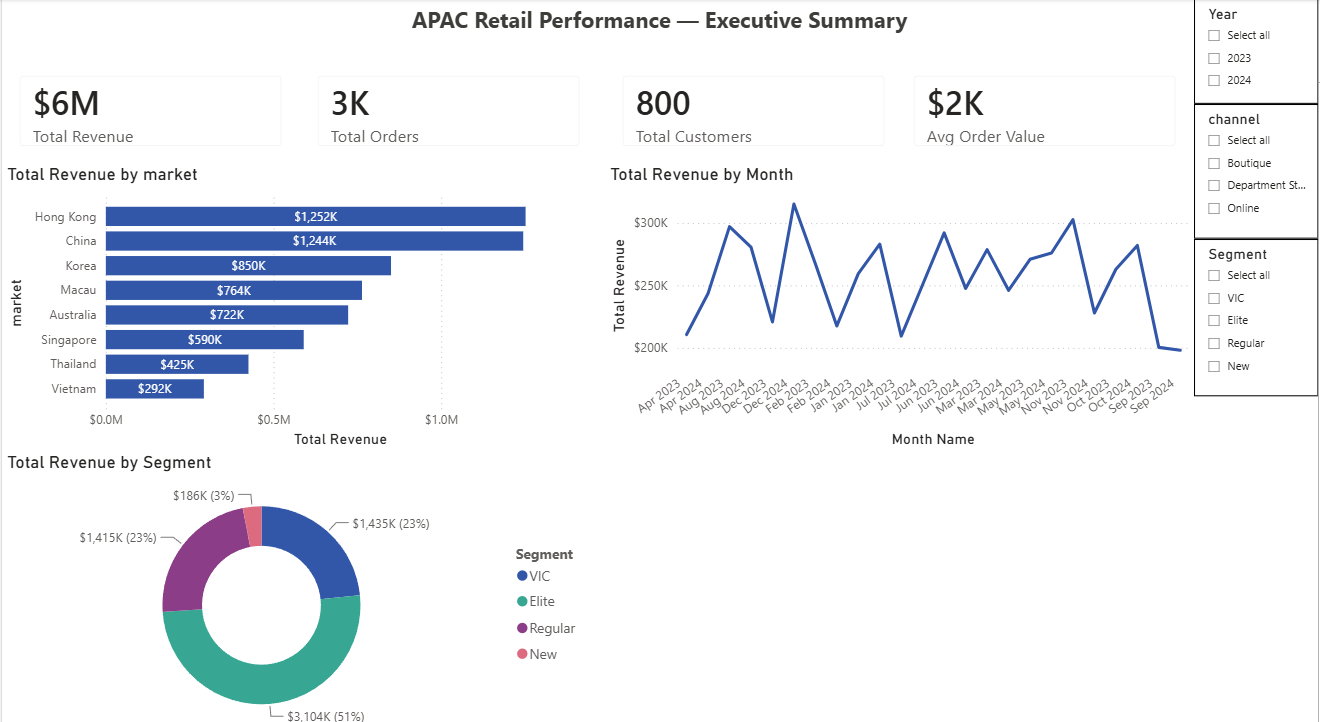

Layout of this report page (visuals, bound fields, positions):
{"tool":"powerbi","page":{"name":"Executive Summary","canvas":[1280,720],"ordinal":0},"visuals":[{"type":"barChart","fields":{"Category":["retail_transactions.market"],"Y":["retail_transactions.Total Revenue"]},"box":[0,160.5,579.7,280.1],"z":0},{"type":"cardVisual","fields":{"Data":["retail_transactions.Total Revenue"]},"box":[0,57.4,289.8,103.1],"z":1000},{"type":"cardVisual","fields":{"Data":["retail_transactions.Total Orders"]},"box":[289.8,57.4,289.8,103.1],"z":2000},{"type":"cardVisual","fields":{"Data":["retail_transactions.Total Customers"]},"box":[586.5,57.4,289.8,103.1],"z":3000},{"type":"cardVisual","fields":{"Data":["retail_transactions.Avg Order Value"]},"box":[869.5,57.4,289.8,103.1],"z":4000},{"type":"lineChart","title":"Total Revenue by Month","fields":{"Y":["retail_transactions.Total Revenue"],"Category":["Date.Month Name"]},"box":[586.5,160.5,572.9,280.1],"z":5000},{"type":"donutChart","fields":{"Y":["retail_transactions.Total Revenue"],"Category":["Segment Order.Segment"]},"box":[0,440.6,579.7,279.1],"z":6000},{"type":"textbox","box":[353.1,0,572.9,45.7],"z":9000},{"type":"slicer","fields":{"Values":["Date.Year"]},"box":[1159.4,0,120.6,102.1],"z":9001},{"type":"slicer","fields":{"Values":["retail_transactions.channel"]},"box":[1159.4,102.1,120.6,131.3],"z":9002},{"type":"slicer","fields":{"Values":["Segment Order.Segment"]},"box":[1159.4,233.4,120.6,152.7],"z":9003}]}

Visuals, with their boxes in screenshot pixels (x1, y1, x2, y2), scaled from the page's 1280x720 canvas onto the 1320x722 screenshot:
barChart - retail_transactions.market x retail_transactions.Total Revenue: x1=0, y1=161, x2=598, y2=442
cardVisual - retail_transactions.Total Revenue: x1=0, y1=58, x2=299, y2=161
cardVisual - retail_transactions.Total Orders: x1=299, y1=58, x2=598, y2=161
cardVisual - retail_transactions.Total Customers: x1=605, y1=58, x2=904, y2=161
cardVisual - retail_transactions.Avg Order Value: x1=897, y1=58, x2=1196, y2=161
"Total Revenue by Month" lineChart: x1=605, y1=161, x2=1196, y2=442
donutChart - retail_transactions.Total Revenue x Segment Order.Segment: x1=0, y1=442, x2=598, y2=721
textbox: x1=364, y1=0, x2=955, y2=46
slicer - Date.Year: x1=1196, y1=0, x2=1319, y2=102
slicer - retail_transactions.channel: x1=1196, y1=102, x2=1319, y2=234
slicer - Segment Order.Segment: x1=1196, y1=234, x2=1319, y2=387
